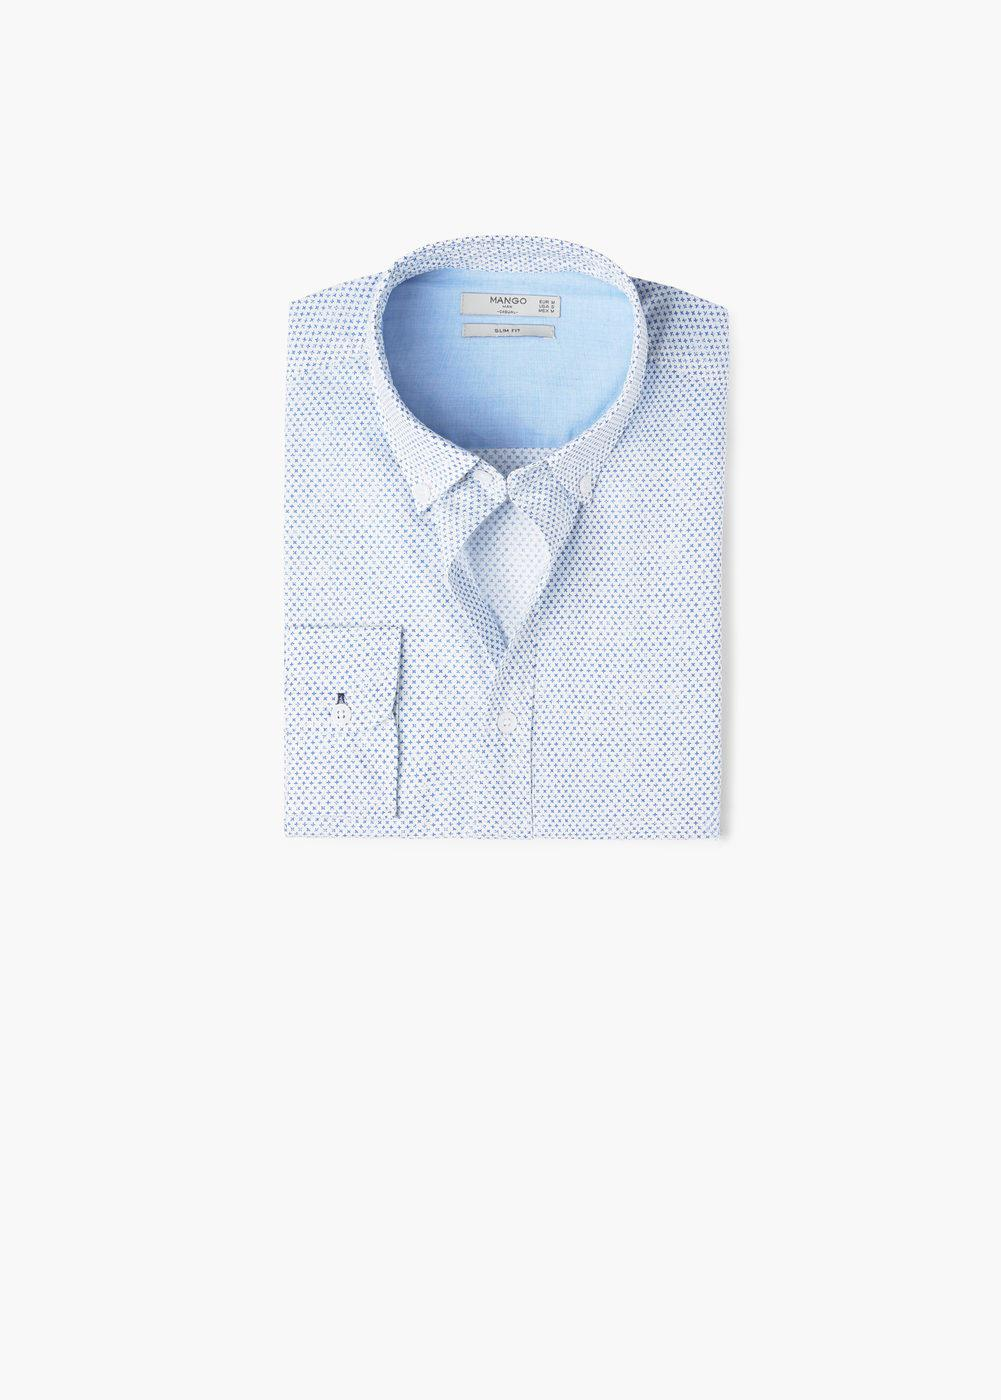teeshirt: (259, 214, 747, 872)
